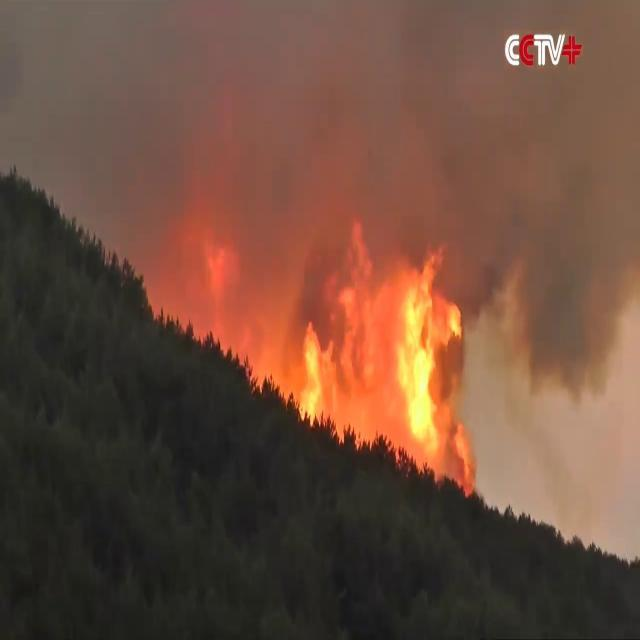Fire: (296, 212, 476, 497)
Smoke: (1, 1, 638, 412)
